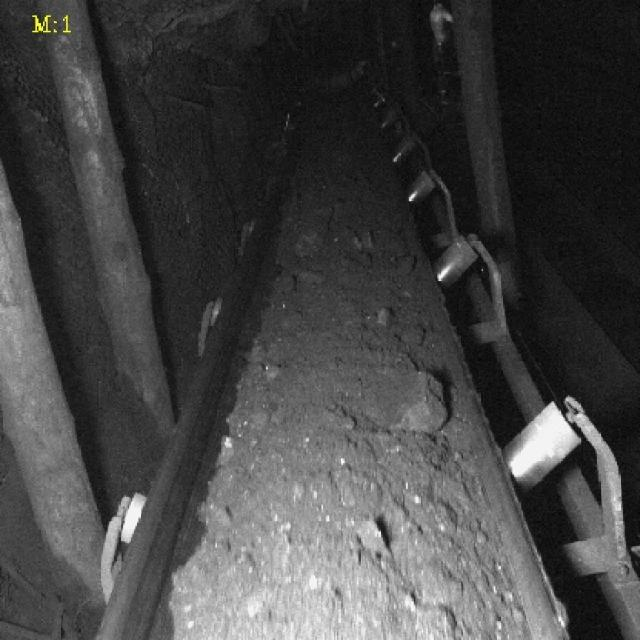large_sized_coal: (396, 375, 450, 434)
